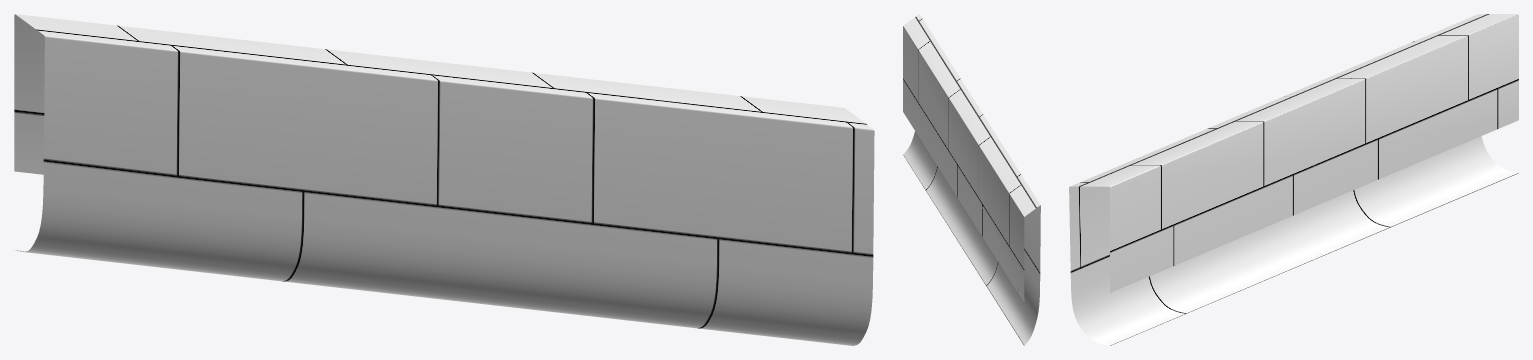
File: Parapet01_45Deg2_350cm.FBX
3 renders of one model, left to right at view 1: azimuth 30°, elevation 25°; view 2: azimuth 150°, elevation 25°; view 3: azimuth 270°, elevation 25°, orthographic. The views are drawn at different scales.
Parts seen in each view (by area): view 1: Parapet01_45Deg2_350cm; view 2: Parapet01_45Deg2_350cm; view 3: Parapet01_45Deg2_350cm.
Part boxes in pixels (x1=…): Parapet01_45Deg2_350cm: x1=14, y1=14, x2=874, y2=345; Parapet01_45Deg2_350cm: x1=903, y1=14, x2=1040, y2=345; Parapet01_45Deg2_350cm: x1=1069, y1=14, x2=1518, y2=345.
Size of the model in its own units: 350 by 150 by 385.
